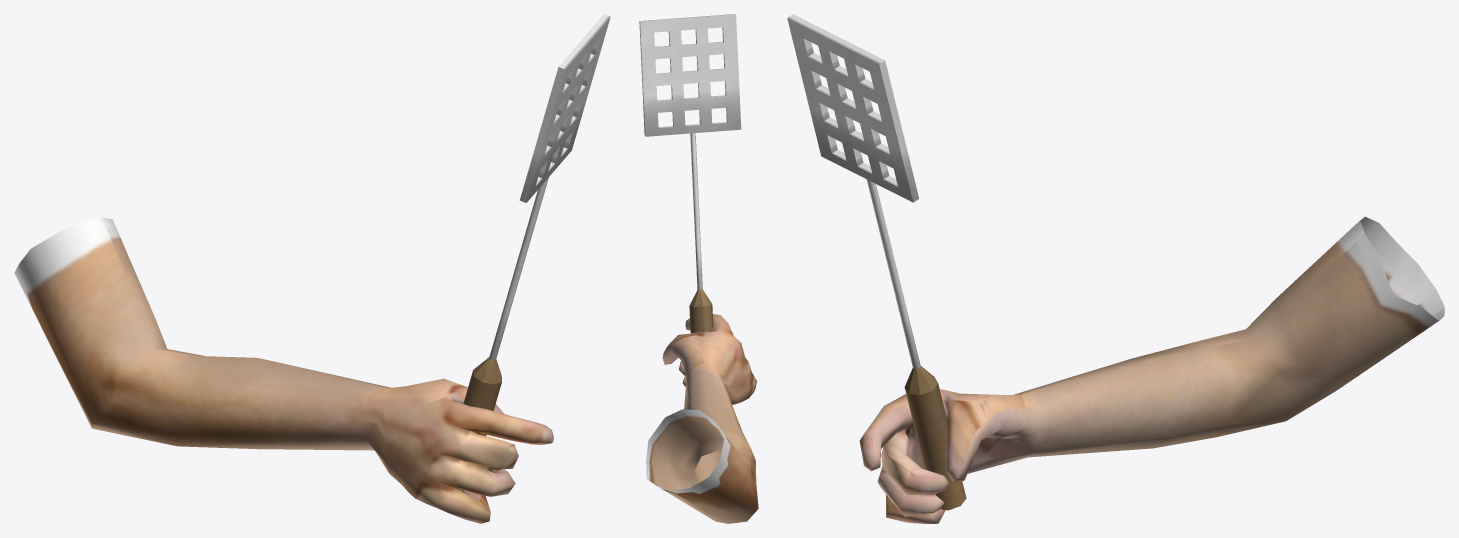
File: fliegenklatsche.obj
3 renders of one model, left to right at view 1: azimuth 30°, elevation 25°; view 2: azimuth 150°, elevation 25°; view 3: azimuth 270°, elevation 25°, orthographic. The views are drawn at different scales.
Visible parts, largest first — view 1: cman0010_wa_layer01, Quader001, Zylinder001, Zylinder002; view 2: cman0010_wa_layer01, Quader001, Zylinder002, Zylinder001; view 3: cman0010_wa_layer01, Quader001, Zylinder001, Zylinder002.
Boxes of the visible parts, x1=… form: cman0010_wa_layer01: x1=14, y1=217, x2=553, y2=523; Quader001: x1=519, y1=14, x2=610, y2=202; Zylinder001: x1=461, y1=357, x2=501, y2=490; Zylinder002: x1=489, y1=177, x2=548, y2=360; cman0010_wa_layer01: x1=646, y1=314, x2=758, y2=523; Quader001: x1=639, y1=14, x2=741, y2=136; Zylinder002: x1=690, y1=133, x2=702, y2=290; Zylinder001: x1=689, y1=289, x2=713, y2=333; cman0010_wa_layer01: x1=859, y1=216, x2=1444, y2=523; Quader001: x1=787, y1=14, x2=918, y2=202; Zylinder001: x1=904, y1=366, x2=966, y2=510; Zylinder002: x1=866, y1=179, x2=920, y2=369.
Size of the model in its own units: 7.62 by 10.05 by 11.48.
1 material, 1 textured.
